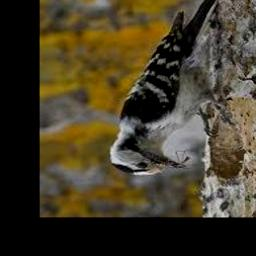Woodpecker: (109, 0, 219, 176)
